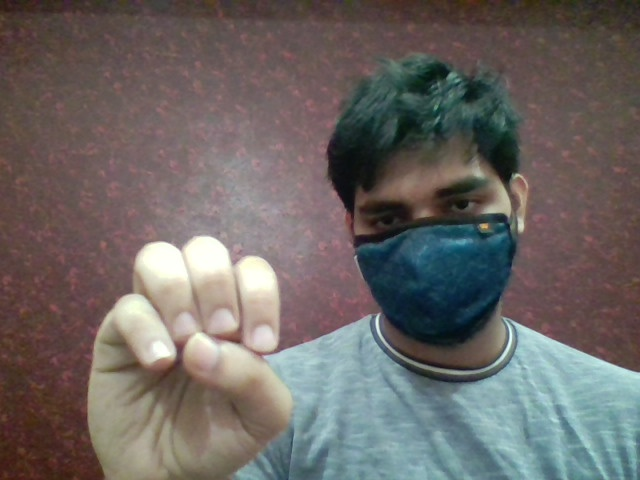e: (79, 231, 299, 474)
